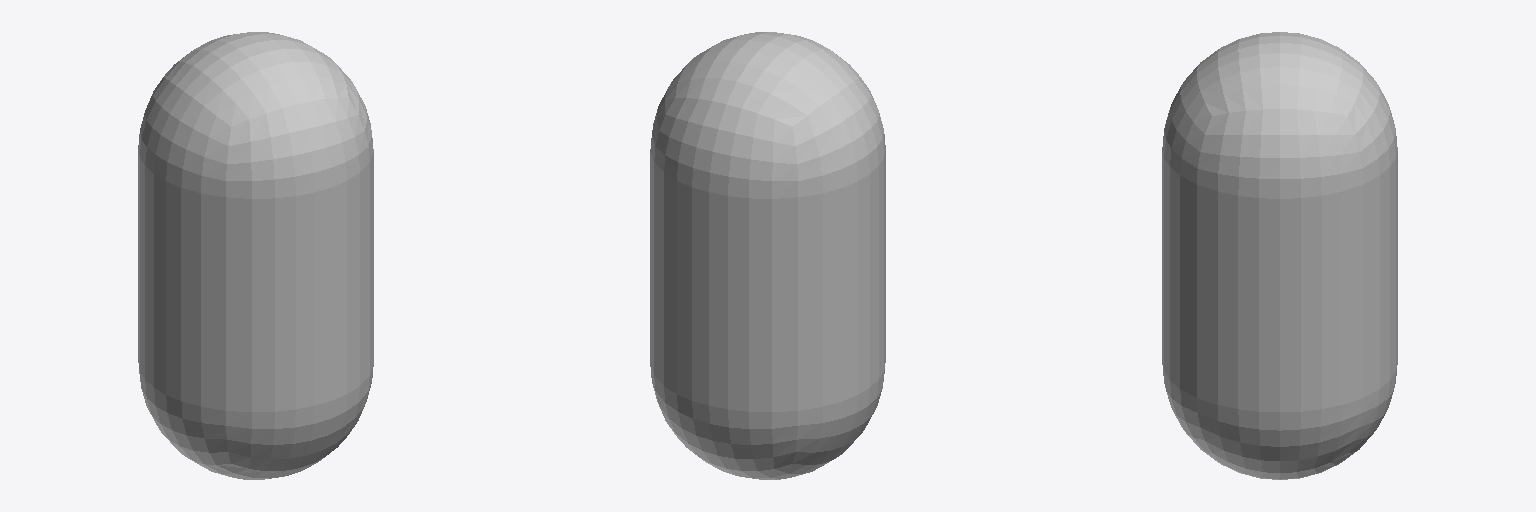
File: DefaultCapsule.obj
3 views of the same model, side by side, from view 1: azimuth 30°, elevation 25°; view 2: azimuth 150°, elevation 25°; view 3: azimuth 270°, elevation 25° (orthographic).
Visible parts, largest first — view 1: Roundcube; view 2: Roundcube; view 3: Roundcube.
Part boxes in pixels (bbox=[...]): Roundcube: bbox=[138, 32, 373, 479]; Roundcube: bbox=[650, 32, 885, 479]; Roundcube: bbox=[1162, 32, 1397, 479].
Bounding box in the file's own units: 2 × 4 × 2.